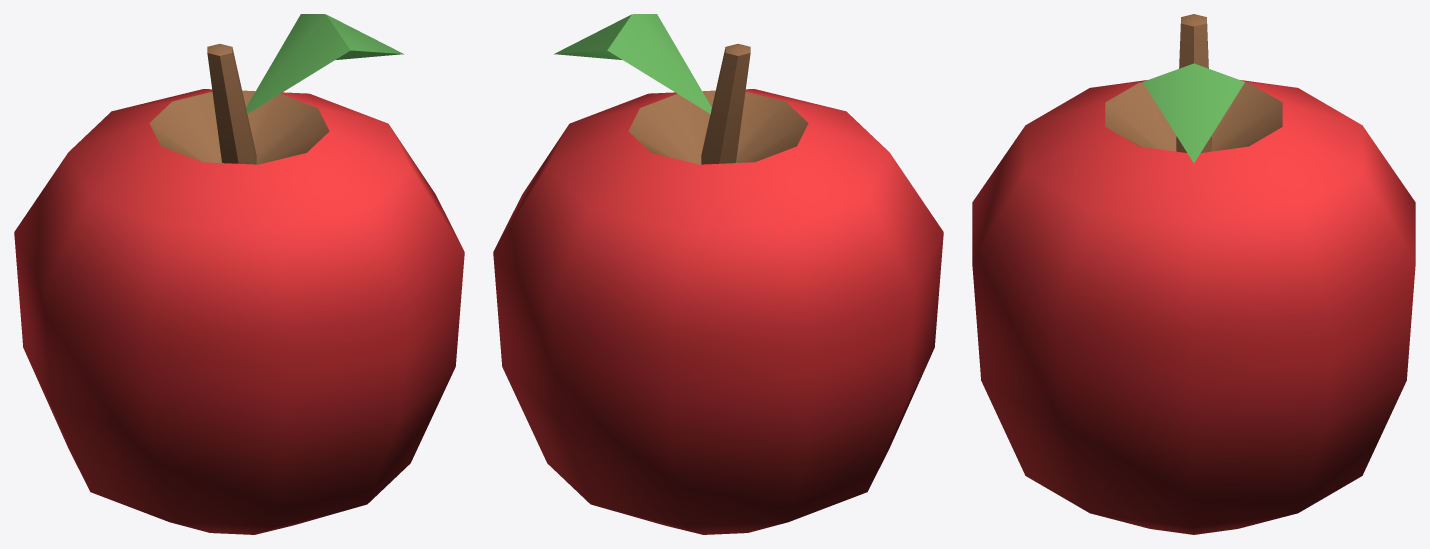
Rendered from food_apple_red.glb.
3 views of the same model, side by side, from view 1: azimuth 30°, elevation 25°; view 2: azimuth 150°, elevation 25°; view 3: azimuth 270°, elevation 25° (orthographic). The views are drawn at different scales.
Parts seen in each view (by area): view 1: Item; view 2: Item; view 3: Item.
Part boxes in pixels (x1,y1,x2,y2): Item: (14,14,464,534); Item: (493,14,943,534); Item: (972,14,1415,534).
Size of the model in its own units: 0.5 by 0.572 by 0.4755.
1 material, 1 textured.
